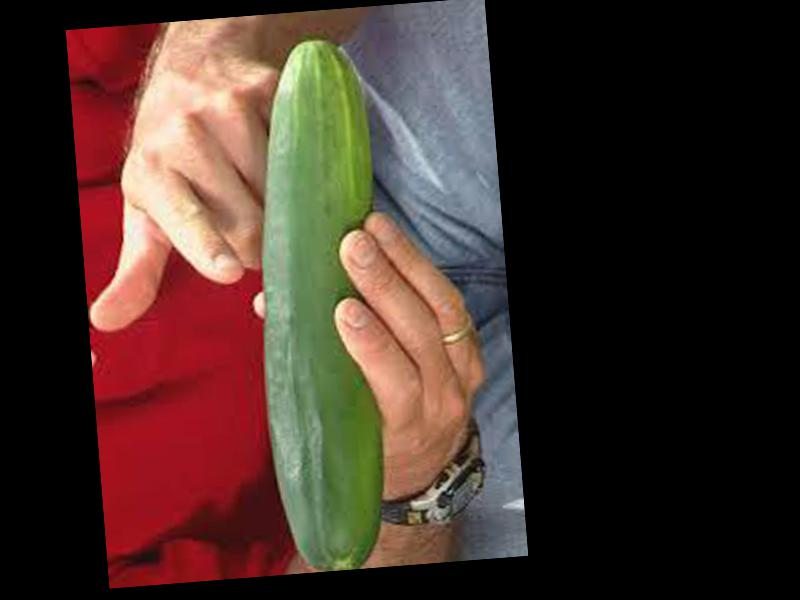Cucumber: (238, 35, 405, 575)
